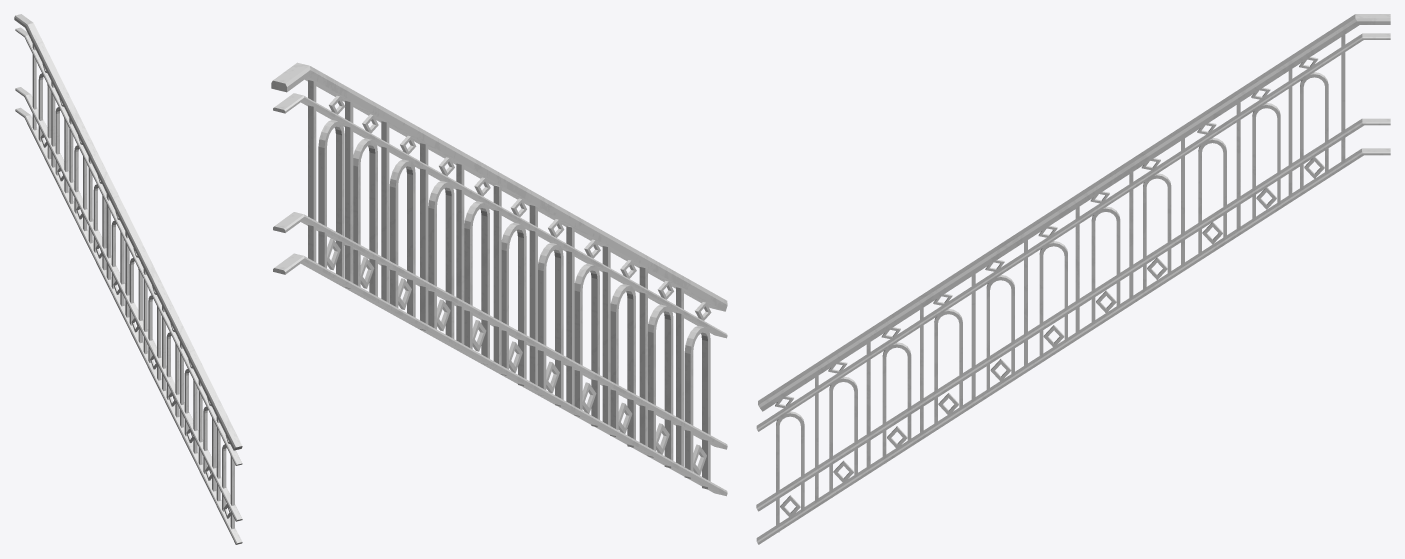
File: StationFrame_B_001.fbx
3 renders of one model, left to right at view 1: azimuth 30°, elevation 25°; view 2: azimuth 150°, elevation 25°; view 3: azimuth 270°, elevation 25°, orthographic. The views are drawn at different scales.
Visible parts, largest first — view 1: StationFrame_B_001; view 2: StationFrame_B_001; view 3: StationFrame_B_001.
Part boxes in pixels (x1,y1,x2,y2): StationFrame_B_001: (14, 14, 242, 544); StationFrame_B_001: (271, 62, 727, 496); StationFrame_B_001: (756, 14, 1390, 544).
Size of the model in its own units: 6.01 by 267 by 292.
2 materials, 2 textured.
